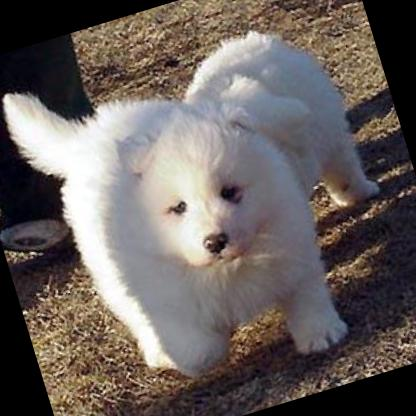Samoyed: (0, 14, 355, 416), (166, 6, 381, 246)
